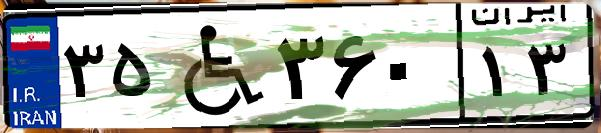0: (385, 28, 445, 110)
1: (475, 38, 525, 113)
3: (270, 28, 330, 110), (57, 26, 110, 100), (525, 38, 570, 115)
5: (110, 28, 158, 98)
6: (330, 28, 385, 110)
ژ (معلولین و جانبازان): (158, 12, 270, 120)
